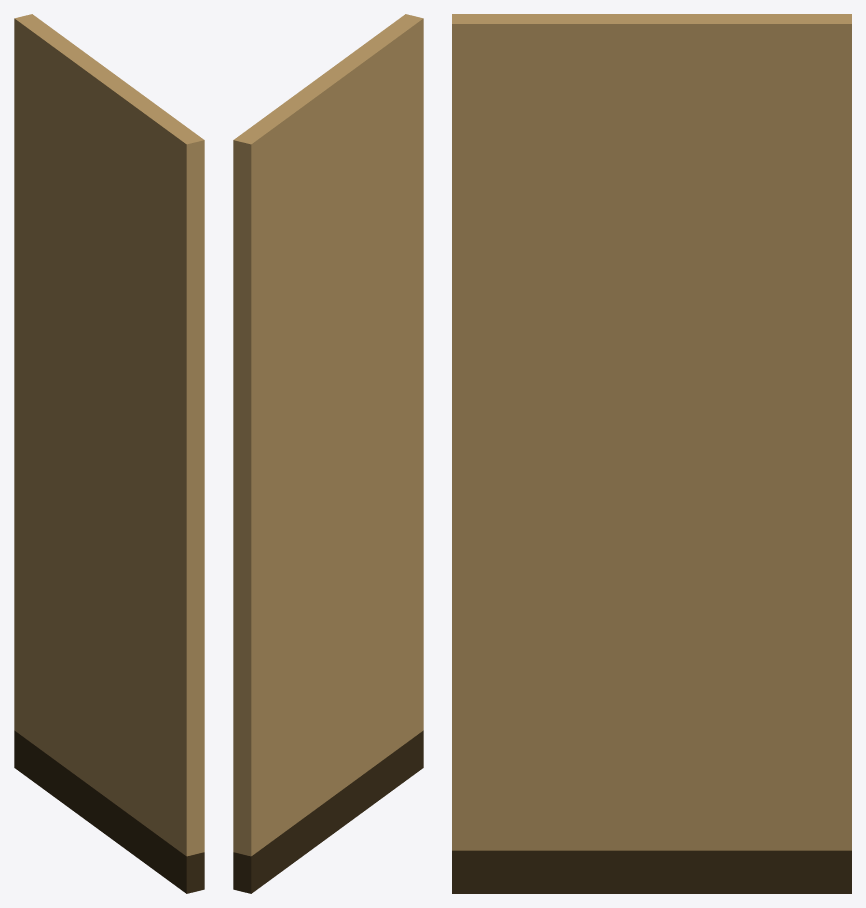
The model's file is SchoolPack-48-straight wall.obj.
The picture shows the model from 3 angles, left to right: view 1: azimuth 30°, elevation 25°; view 2: azimuth 150°, elevation 25°; view 3: azimuth 270°, elevation 25°; orthographic projection. The views are drawn at different scales.
Visible parts, largest first — view 1: straight wall; view 2: straight wall; view 3: straight wall.
Part boxes in pixels (x1,y1,x2,y2): straight wall: (14,14,204,893); straight wall: (233,14,423,893); straight wall: (452,14,851,893).
Bounding box in the file's own units: 0.3 × 12 × 5.
Materials: 1 (1 with a texture image).
